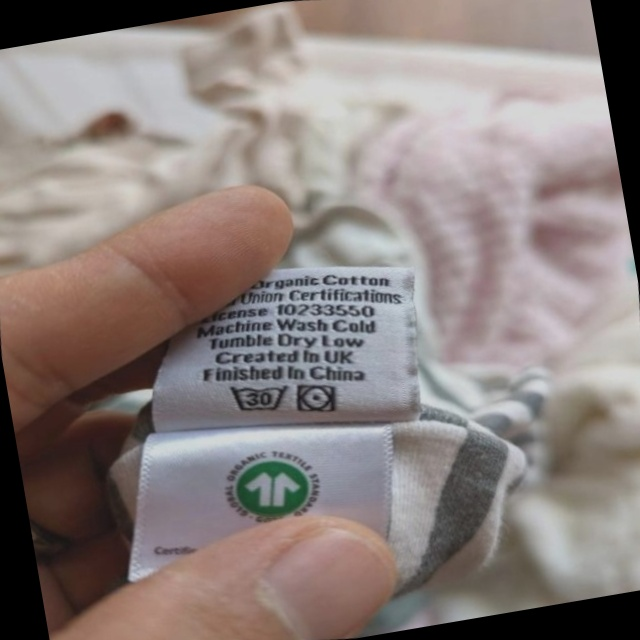30C: (221, 372, 295, 424)
tumble_dry_low: (290, 375, 344, 422)
